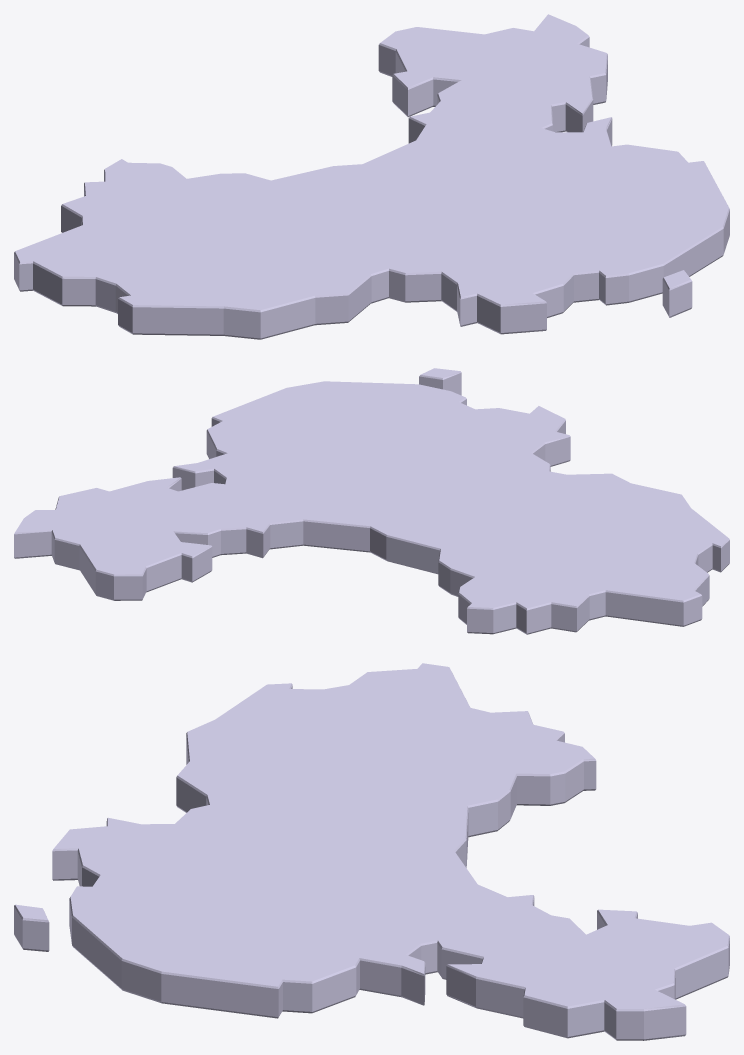
File: CHN.glb
The picture shows the model from 3 angles, top to bottom: view 1: azimuth 30°, elevation 25°; view 2: azimuth 150°, elevation 25°; view 3: azimuth 270°, elevation 25°; orthographic projection. The views are drawn at different scales.
Size of the model in its own units: 1.59 by 0.068 by 1.39.
